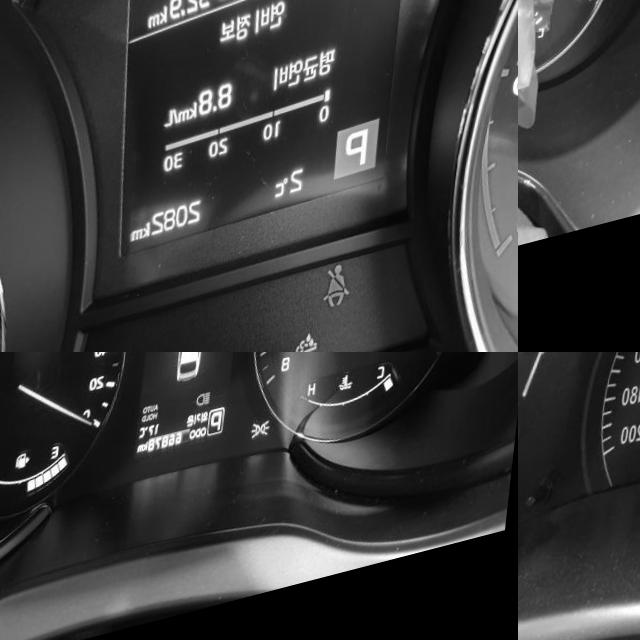SideLamp: (262, 438, 282, 460)
